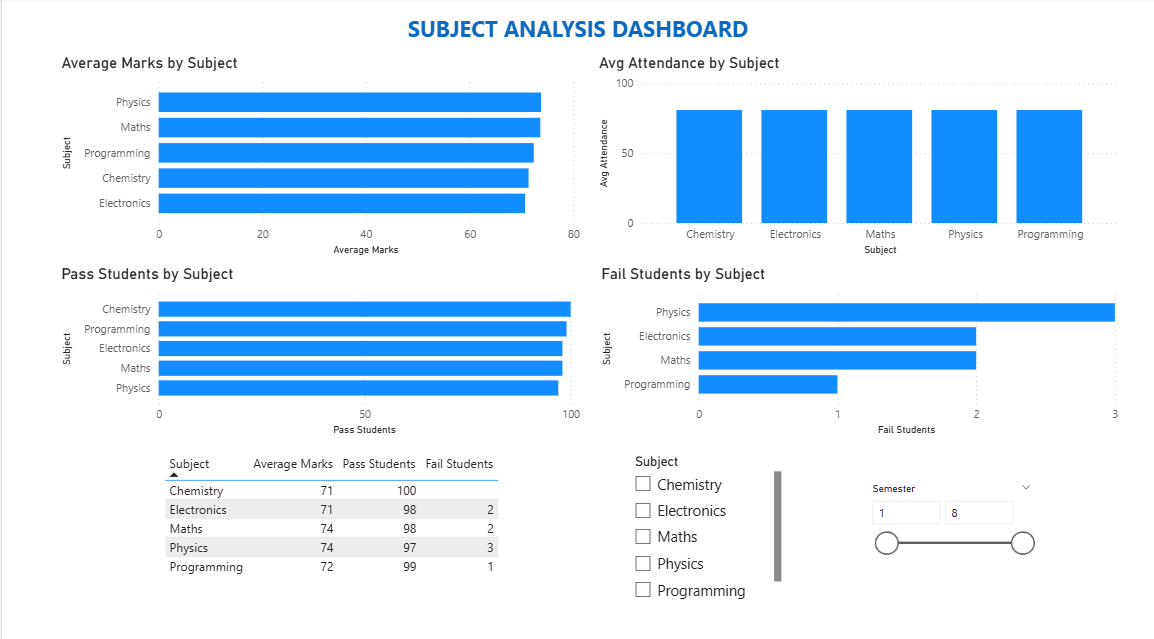

The dashboard page shown, as its layout file describes it:
{"tool":"powerbi","page":{"name":"Page 2","canvas":[1280,720],"ordinal":1},"visuals":[{"type":"textbox","box":[440.5,13.7,419.9,65.9],"z":0},{"type":"barChart","fields":{"Category":["Subjects.Subject"],"Y":["Table.Average Marks"]},"box":[60.4,61.7,579.1,226.4],"z":1000},{"type":"barChart","fields":{"Category":["Subjects.Subject"],"Y":["Table.Pass Students"]},"box":[60.4,293.7,579.1,192.1],"z":2000},{"type":"barChart","fields":{"Category":["Subjects.Subject"],"Y":["Table.Fail Students"]},"box":[653.2,293.7,577.7,192.1],"z":3000},{"type":"clusteredColumnChart","fields":{"Category":["Marks.Subject"],"Y":["Table.Avg Attendance"]},"box":[650.4,61.7,580.4,226.4],"z":4000},{"type":"tableEx","fields":{"Values":["Subjects.Subject","Table.Average Marks","Table.Pass Students","Table.Fail Students"]},"box":[172.9,496.7,380.1,174.3],"z":5000},{"type":"slicer","fields":{"Values":["Subjects.Subject"]},"box":[682,496.7,178.4,174.3],"z":6000},{"type":"slicer","fields":{"Values":["Marks.Semester"]},"box":[942.7,528.3,199,111.1],"z":7000}]}

Visuals, with their boxes in screenshot pixels (x1, y1, x2, y2), scaled from the page's 1280x720 canvas onto the 1154x639 screenshot:
textbox: <bbox>397, 12, 776, 71</bbox>
barChart - Subjects.Subject x Table.Average Marks: <bbox>54, 55, 577, 256</bbox>
barChart - Subjects.Subject x Table.Pass Students: <bbox>54, 261, 577, 431</bbox>
barChart - Subjects.Subject x Table.Fail Students: <bbox>589, 261, 1110, 431</bbox>
clusteredColumnChart - Marks.Subject x Table.Avg Attendance: <bbox>586, 55, 1110, 256</bbox>
tableEx - Subjects.Subject x Table.Average Marks: <bbox>156, 441, 499, 596</bbox>
slicer - Subjects.Subject: <bbox>615, 441, 776, 596</bbox>
slicer - Marks.Semester: <bbox>850, 469, 1029, 567</bbox>
